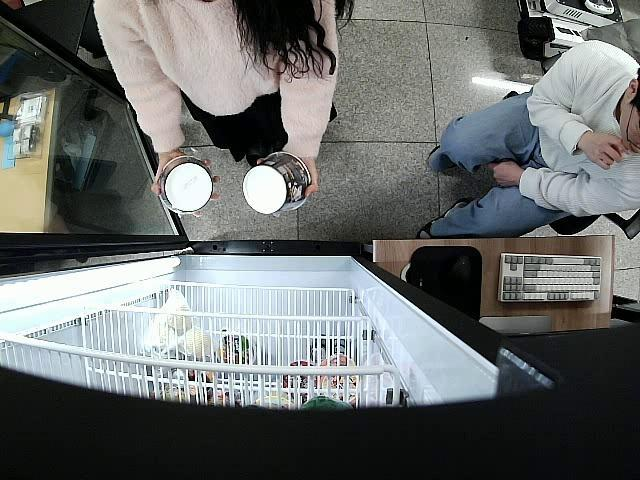07_buldak_L: (240, 150, 310, 212), (155, 156, 214, 212)
